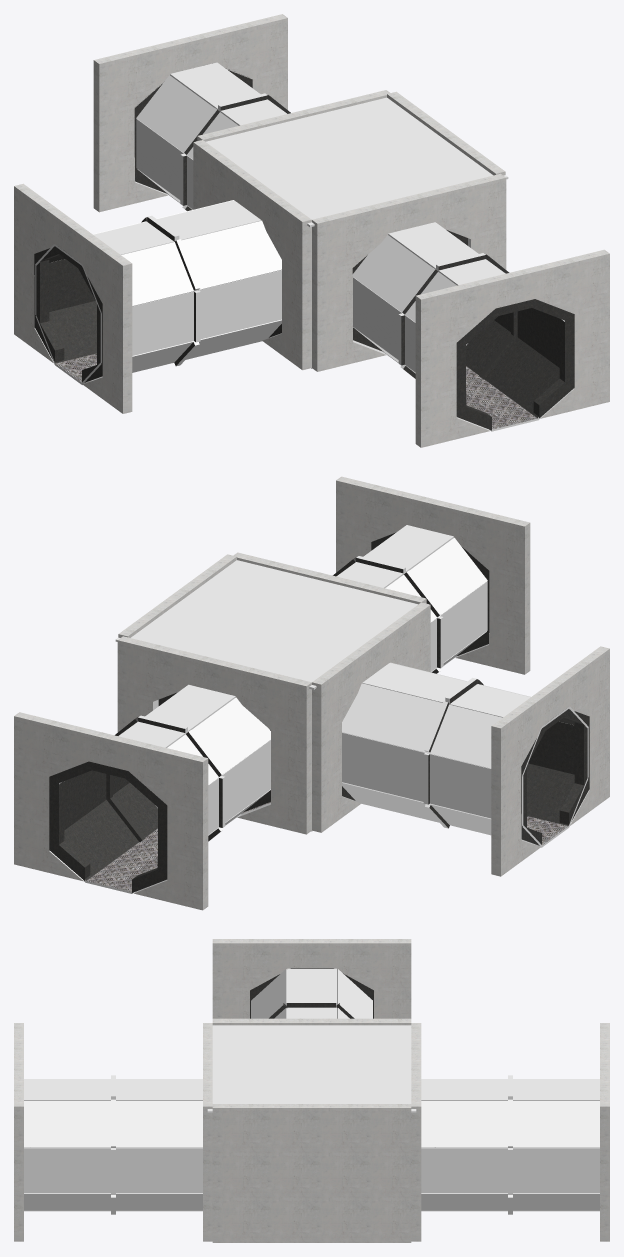
The model's file is Intro_4.fbx.
3 views of the same model, one above another, from view 1: azimuth 30°, elevation 25°; view 2: azimuth 150°, elevation 25°; view 3: azimuth 270°, elevation 25° (orthographic). The views are drawn at different scales.
Parts seen in each view (by area): view 1: node_id82 (×2), node_id5, node_id28, node_id75 (×2), node_id20, node_id46, node_id12, node_id54, node_id68, node_id24, node_id8, node_id35 (×2) (+6 smaller); view 2: node_id82 (×2), node_id5, node_id20, node_id68 (×2), node_id28, node_id50, node_id12, node_id54, node_id75, node_id16, node_id8, node_id32 (×2) (+6 smaller); view 3: node_id92, node_id68, node_id75, node_id5, node_id12, node_id82, node_id50, node_id20, node_id28, node_id46, node_id54, node_id32 (+3 smaller).
Part boxes in pixels (x1=…): node_id82 (×2): x1=35, y1=200, x2=281, y2=384; node_id5: x1=196, y1=97, x2=508, y2=227; node_id28: x1=415, y1=249, x2=609, y2=447; node_id75 (×2): x1=352, y1=222, x2=564, y2=430; node_id20: x1=93, y1=14, x2=287, y2=212; node_id46: x1=312, y1=173, x2=506, y2=371; node_id12: x1=14, y1=183, x2=132, y2=413; node_id54: x1=193, y1=140, x2=311, y2=370; node_id68: x1=136, y1=62, x2=286, y2=209; node_id24: x1=456, y1=299, x2=574, y2=430; node_id8: x1=34, y1=246, x2=102, y2=382; node_id35 (×2): x1=398, y1=253, x2=517, y2=379; node_id82 (×2): x1=342, y1=662, x2=588, y2=847; node_id5: x1=115, y1=560, x2=428, y2=689; node_id20: x1=14, y1=712, x2=208, y2=910; node_id68 (×2): x1=59, y1=684, x2=270, y2=893; node_id28: x1=336, y1=476, x2=530, y2=674; node_id50: x1=117, y1=636, x2=311, y2=834; node_id12: x1=491, y1=646, x2=609, y2=876; node_id54: x1=312, y1=602, x2=430, y2=832; node_id75: x1=336, y1=525, x2=487, y2=672; node_id16: x1=49, y1=761, x2=167, y2=892; node_id8: x1=521, y1=709, x2=589, y2=845; node_id32 (×2): x1=106, y1=715, x2=225, y2=841; node_id92: x1=212, y1=1104, x2=411, y2=1242; node_id68: x1=421, y1=1079, x2=599, y2=1210; node_id75: x1=24, y1=1079, x2=202, y2=1210; node_id5: x1=207, y1=1025, x2=416, y2=1112; node_id12: x1=212, y1=939, x2=411, y2=1018; node_id82: x1=251, y1=968, x2=372, y2=1018; node_id50: x1=411, y1=1023, x2=421, y2=1241; node_id20: x1=600, y1=1023, x2=609, y2=1241; node_id28: x1=14, y1=1023, x2=23, y2=1241; node_id46: x1=203, y1=1023, x2=212, y2=1241; node_id54: x1=212, y1=1018, x2=411, y2=1025; node_id32: x1=508, y1=1075, x2=512, y2=1214.
Size of what is drawn, in the model's own units: 0.512 by 0.1956 by 0.759.
Materials: 63 (25 with a texture image).
